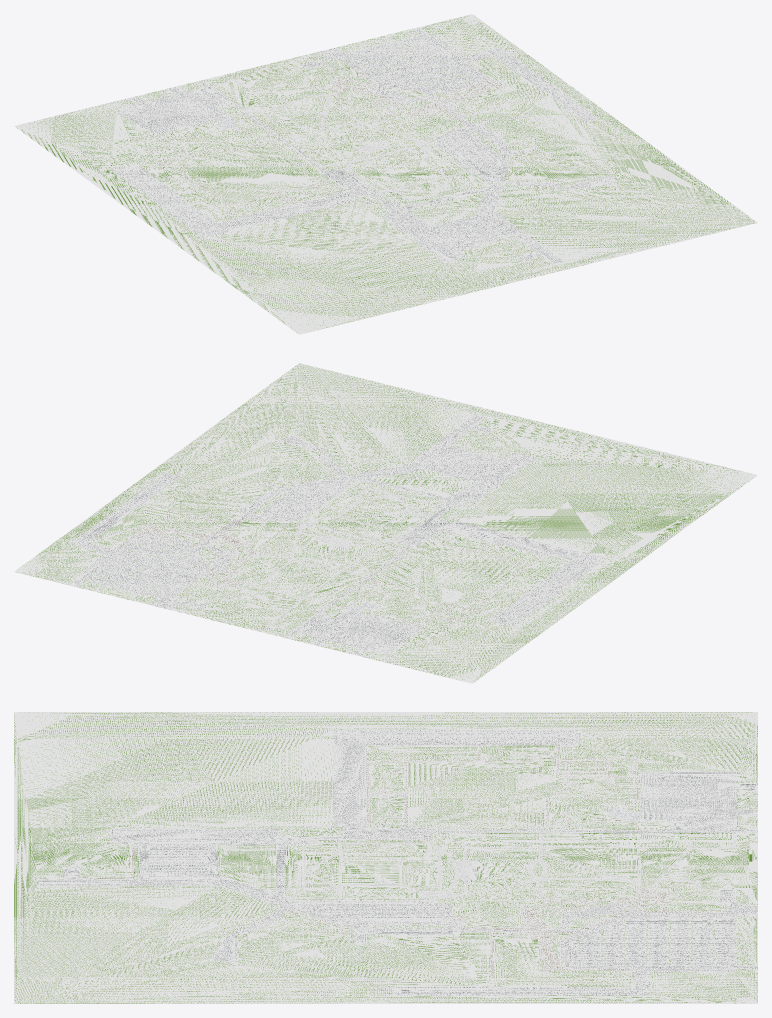
Rendered from Layout.fbx.
3 views of the same model, one above another, from view 1: azimuth 30°, elevation 25°; view 2: azimuth 150°, elevation 25°; view 3: azimuth 270°, elevation 25° (orthographic). The views are drawn at different scales.
Visible parts, largest first — view 1: Model; view 2: Model; view 3: Model.
Part boxes in pixels (x1,y1,x2,y2): Model: (14,14,757,334); Model: (14,363,757,683); Model: (14,712,757,1003).
Size of the model in its own units: 998 by 5.73e-13 by 1075.
